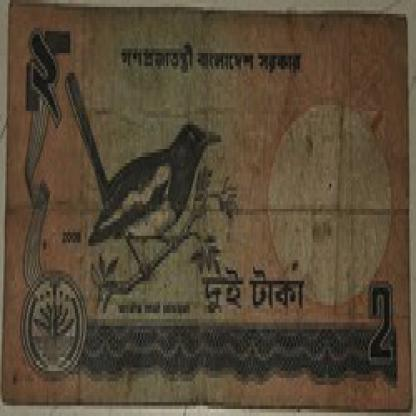two taka: (18, 24, 76, 146), (361, 274, 399, 385)
